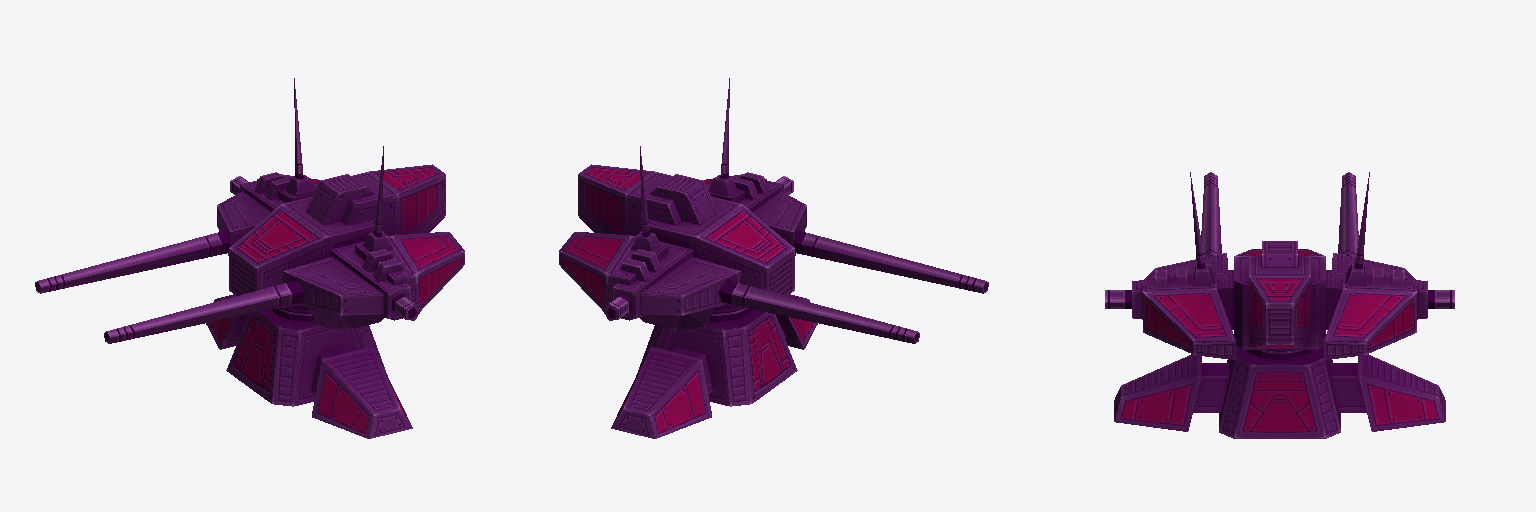
The picture shows the model from 3 angles: view 1: azimuth 30°, elevation 25°; view 2: azimuth 150°, elevation 25°; view 3: azimuth 270°, elevation 25°; orthographic projection.
Bounding box in the file's own units: 68.55 × 46.39 × 56.72.
Materials: 1 (1 with a texture image).